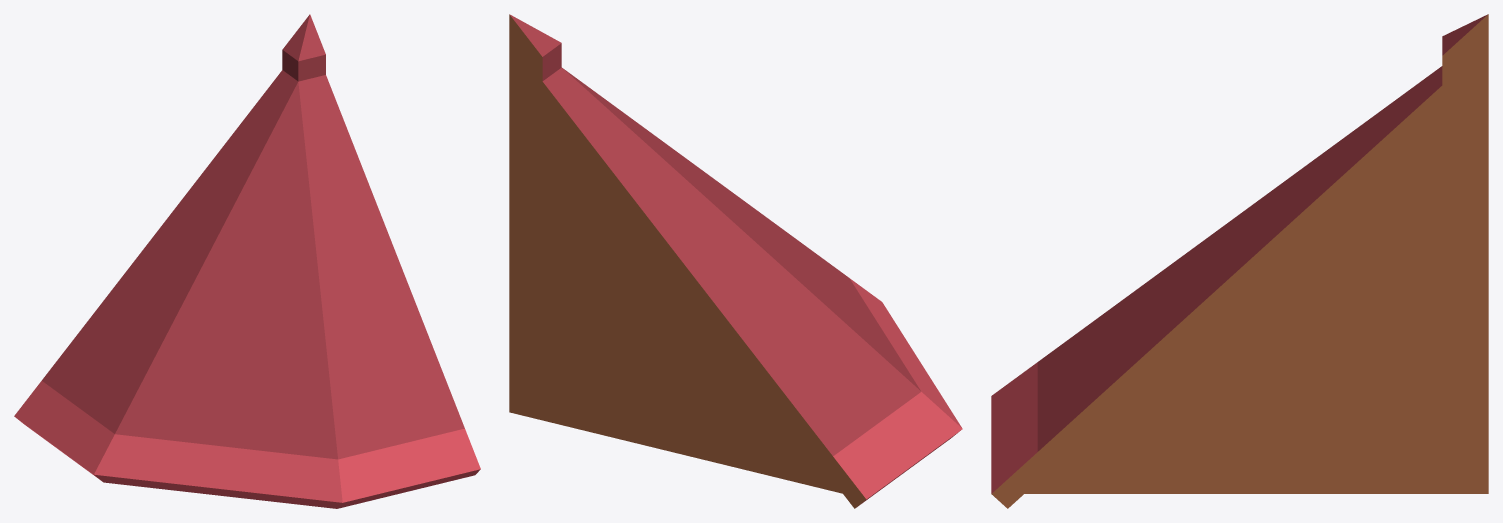
Rendered from roofHighCornerRound.fbx.
3 renders of one model, left to right at view 1: azimuth 30°, elevation 25°; view 2: azimuth 150°, elevation 25°; view 3: azimuth 270°, elevation 25°, orthographic. The views are drawn at different scales.
Visible parts, largest first — view 1: roofHighCornerRound; view 2: roofHighCornerRound; view 3: roofHighCornerRound.
Boxes of the visible parts, left/top/right/bottom form: roofHighCornerRound: left=14, top=14, right=480, bottom=508; roofHighCornerRound: left=509, top=14, right=962, bottom=508; roofHighCornerRound: left=991, top=14, right=1488, bottom=508.
Size of the model in its own units: 10.71 by 11.76 by 10.71.
